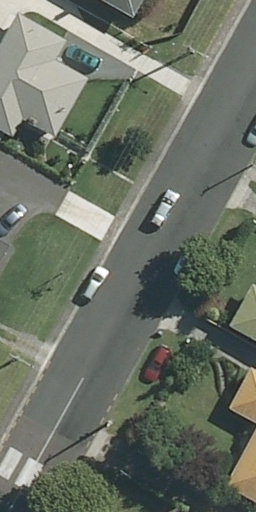DT: (184, 42, 211, 63), (5, 351, 31, 370), (101, 415, 118, 431)
